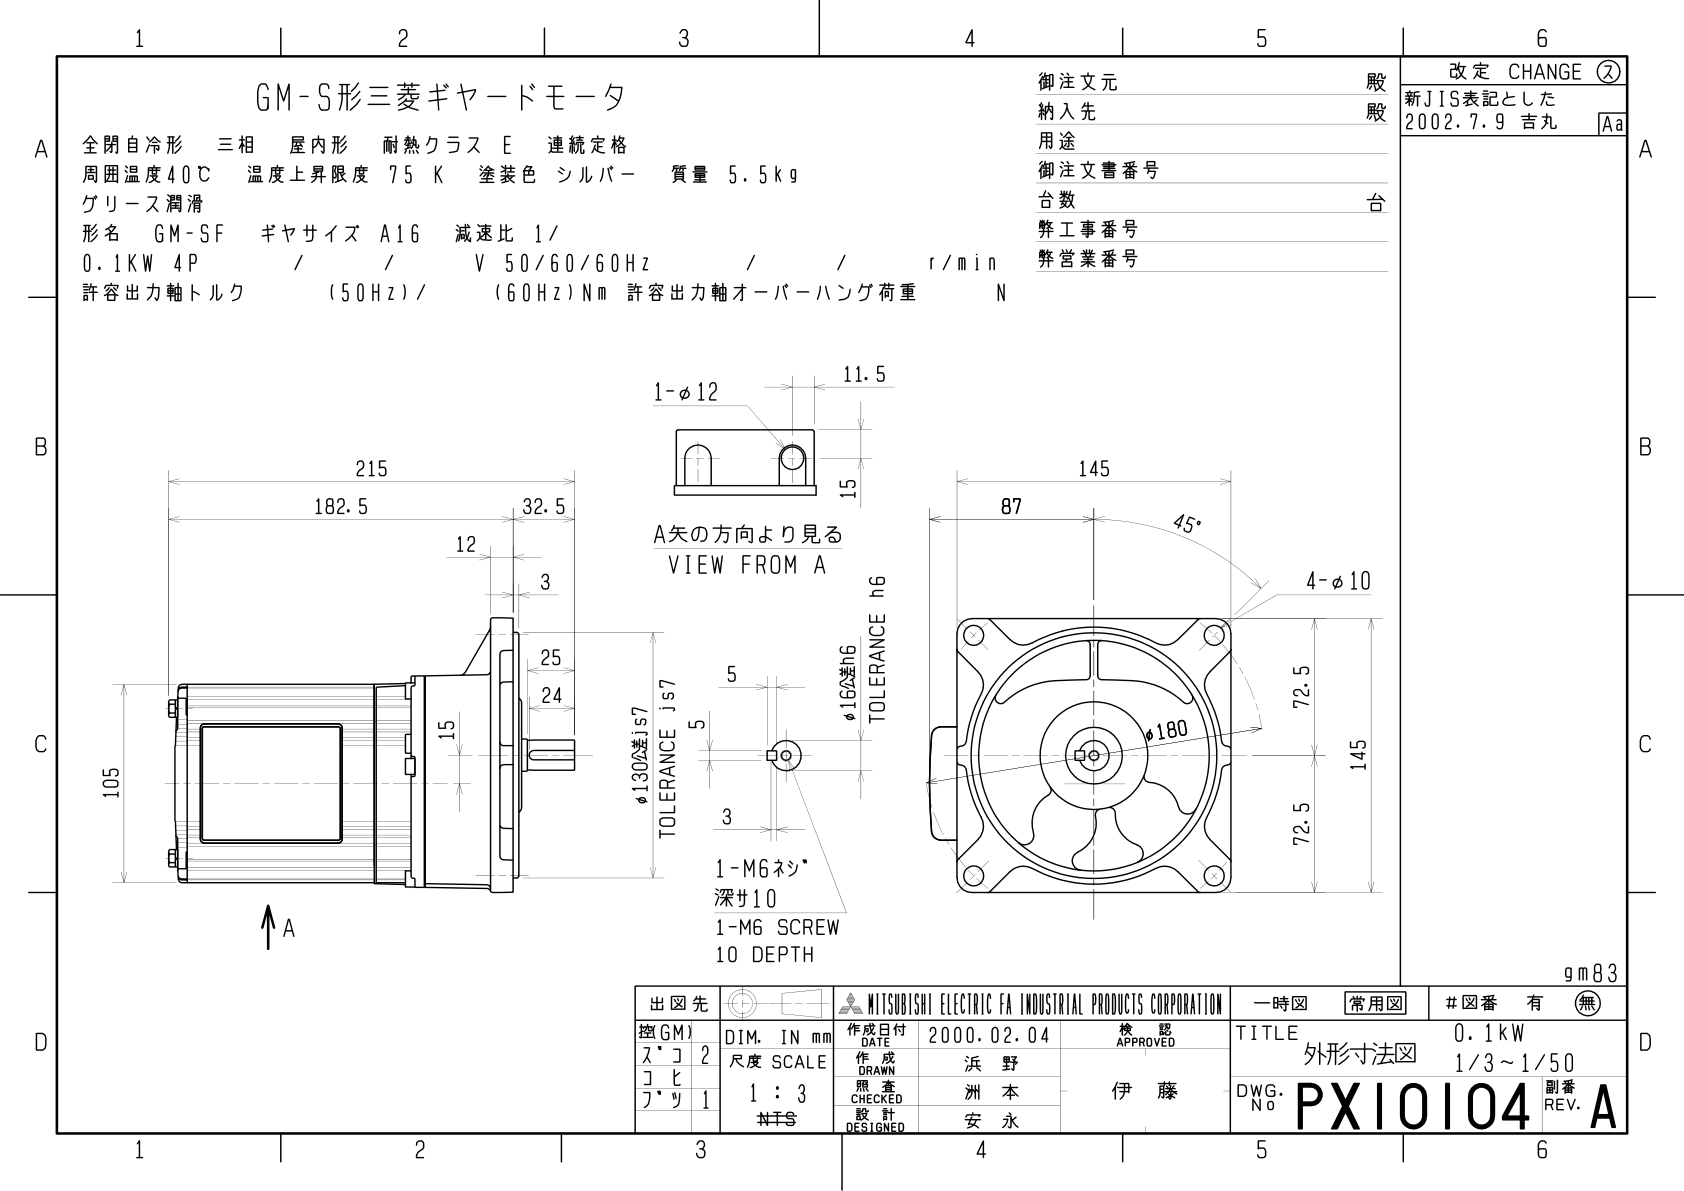GM_S_屋内＿三相_フランジ: (6, 13, 1678, 1183)
